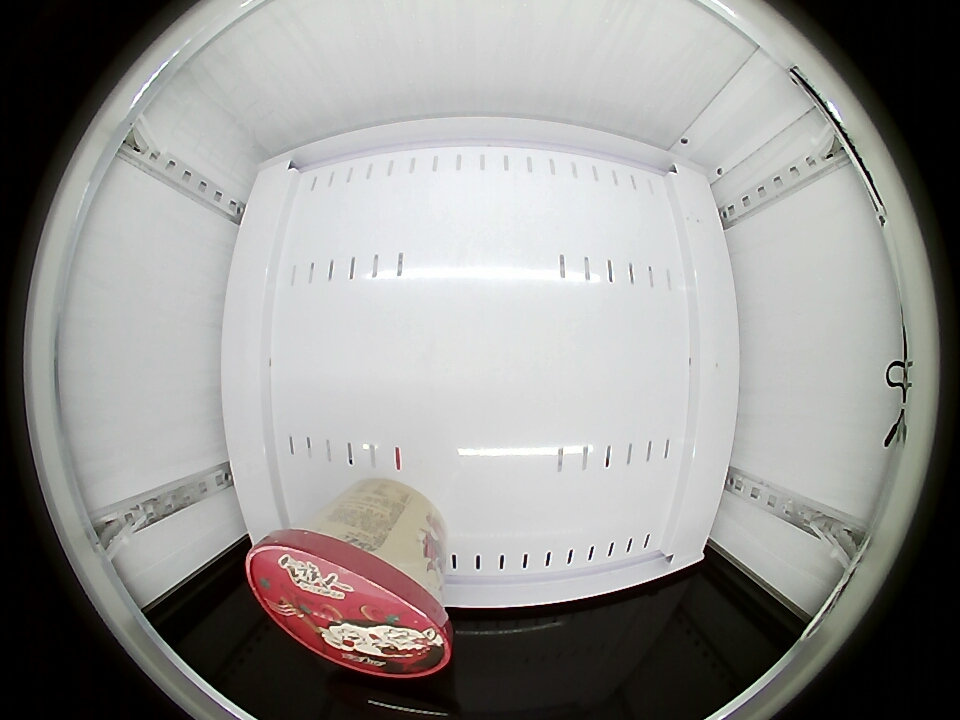suanlafen: (246, 524, 452, 679)
